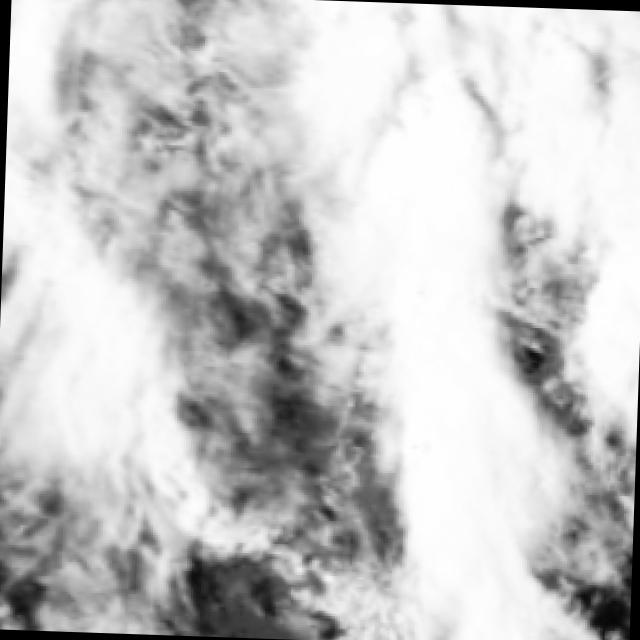CB: (414, 252, 492, 526), (376, 130, 476, 240)
